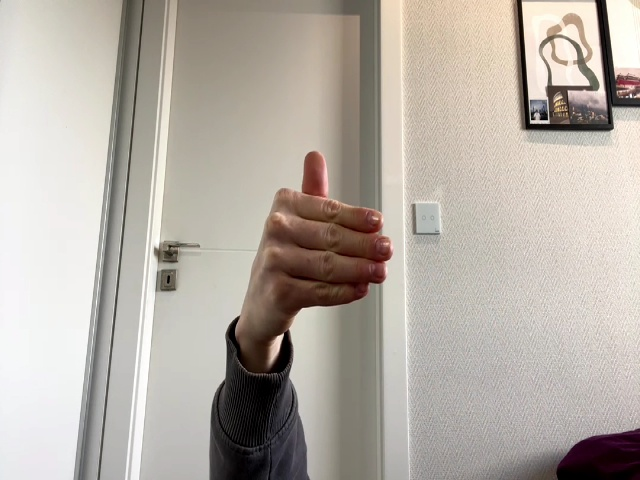M: (249, 151, 393, 355)
